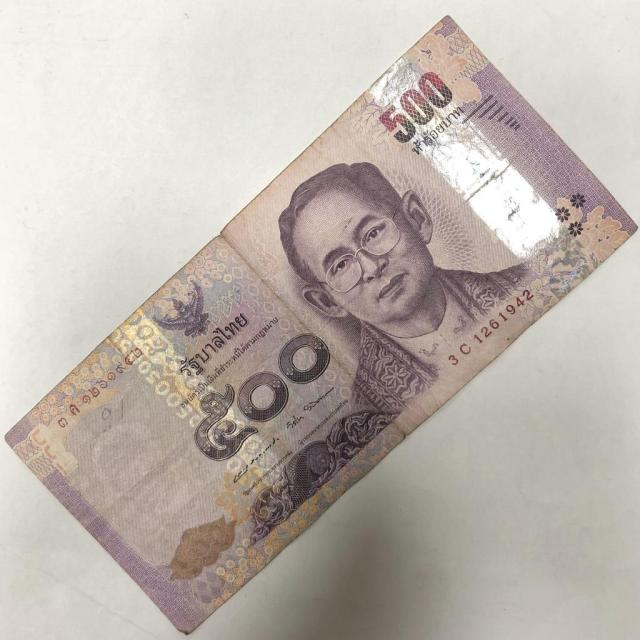THAI500: (6, 18, 636, 632)
